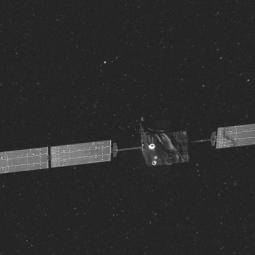smart_1: (96, 106, 220, 176)
